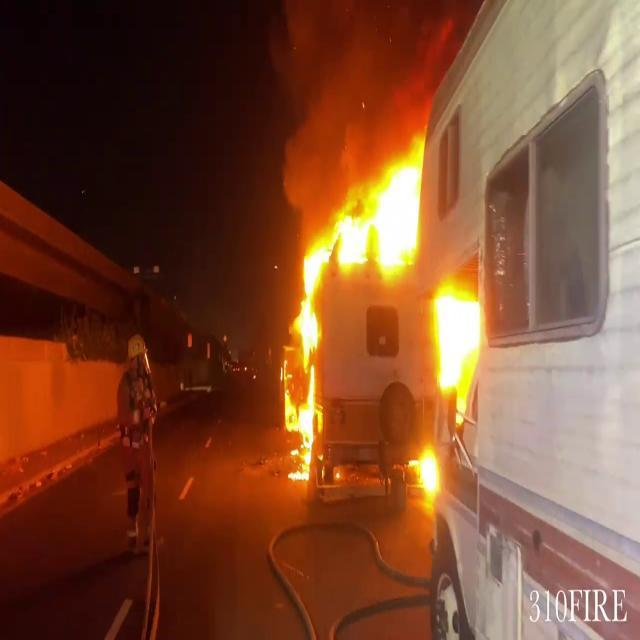Fire: (331, 134, 429, 284), (278, 218, 334, 478), (428, 278, 490, 396)
Smoke: (254, 1, 382, 209)
